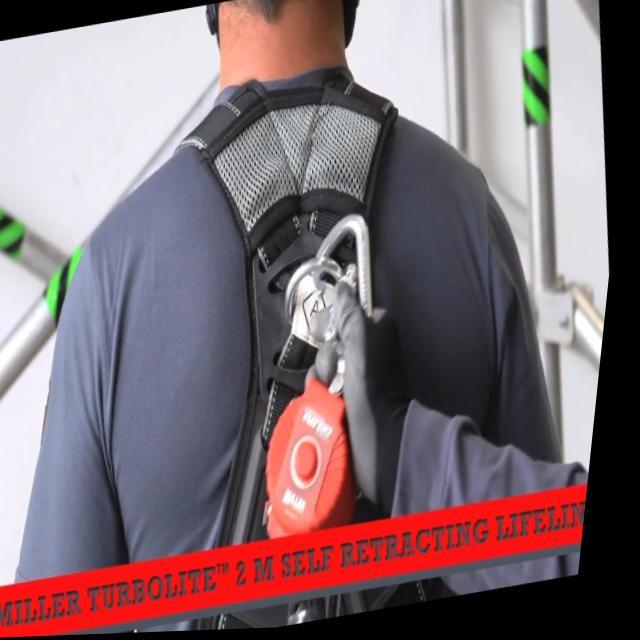belt: (120, 45, 511, 635)
